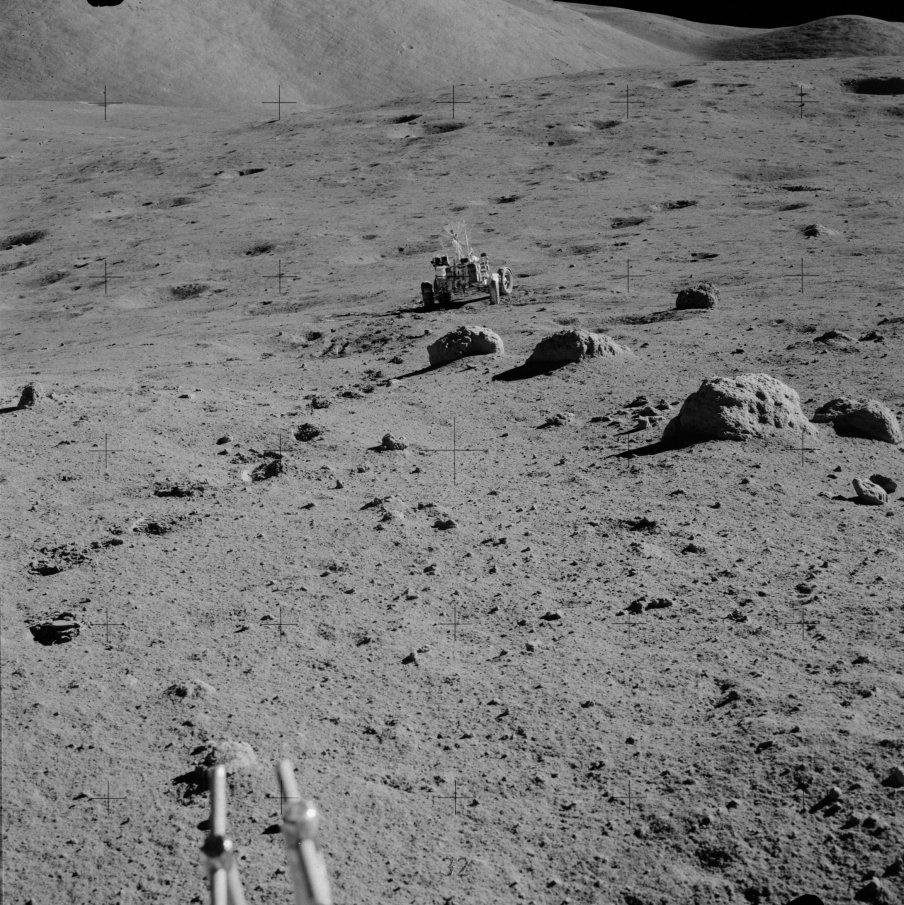rock: (663, 373, 817, 445), (496, 329, 626, 380), (814, 398, 903, 444), (428, 325, 504, 366)
